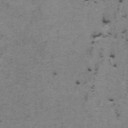oxide scale of temperature system: (86, 47, 118, 75), (90, 16, 112, 38), (84, 84, 95, 102), (115, 109, 120, 118), (52, 71, 58, 77), (122, 28, 127, 34), (75, 80, 80, 85), (122, 14, 128, 18), (108, 98, 114, 102)
